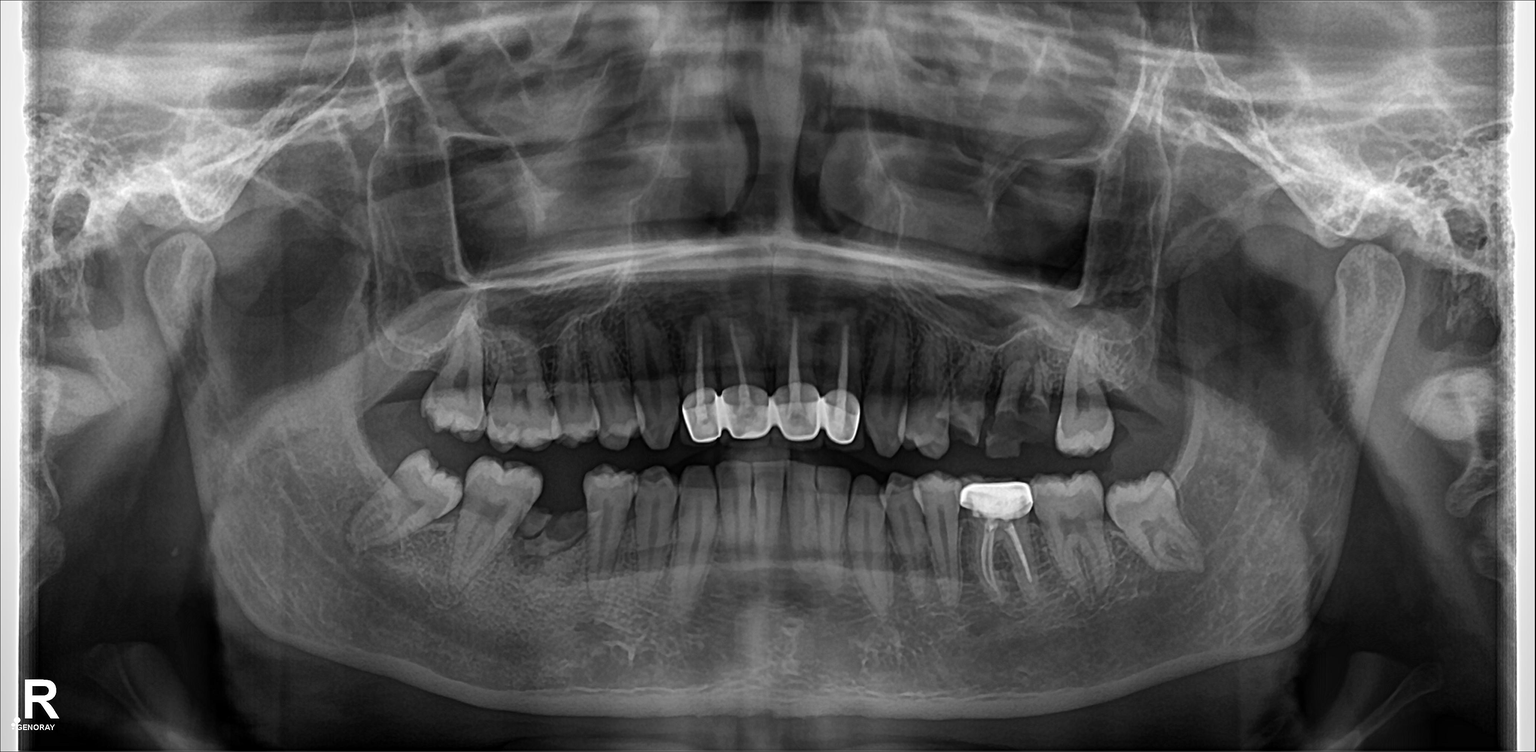Dental Caries: (987, 408, 1052, 456)
Endodontically Treated Tooth: (967, 478, 1029, 596), (728, 326, 769, 448), (819, 326, 855, 453), (685, 322, 721, 447), (775, 322, 809, 448)
Missing Tooth: (1110, 337, 1165, 450), (378, 352, 426, 417)
Retained Root: (993, 344, 1053, 453), (544, 488, 583, 566)
